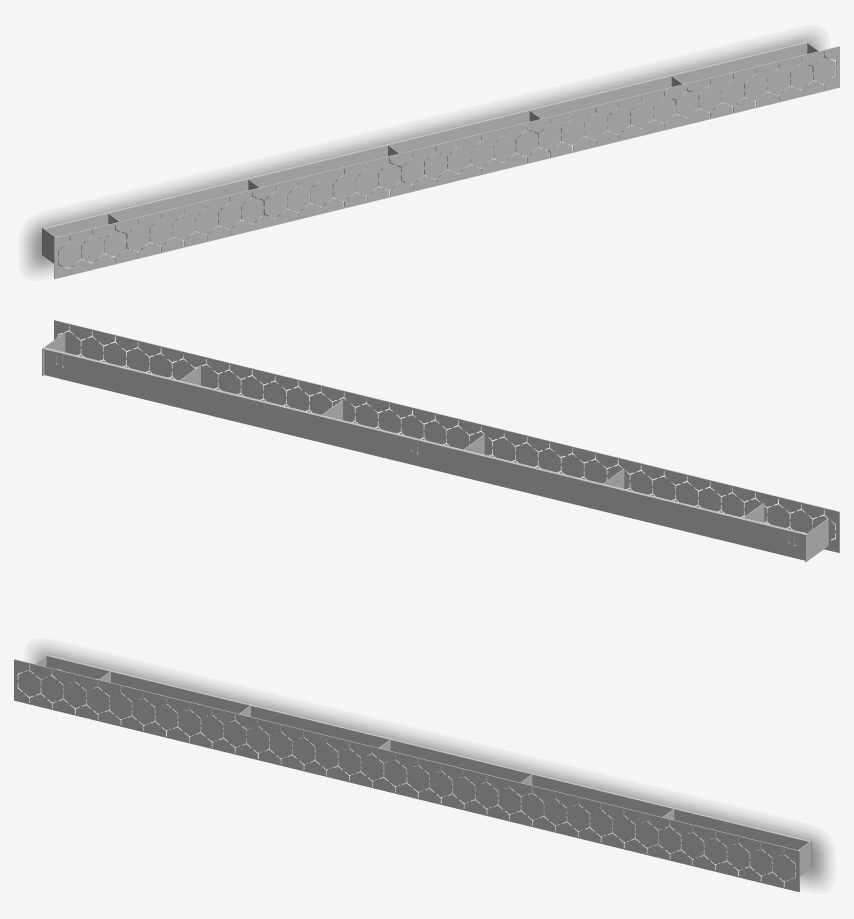
The model's file is bee-patron.221058ae13.ar.glb.
3 renders of one model, top to bottom at view 1: azimuth 30°, elevation 25°; view 2: azimuth 150°, elevation 25°; view 3: azimuth 330°, elevation 25°, orthographic.
Parts seen in each view (by area): view 1: NAUO1, object 2; view 2: NAUO1; view 3: NAUO1, object 2.
Boxes of the visible parts, x1,y1,x2,y2 form: NAUO1: [42, 41, 839, 278]; object 2: [26, 34, 821, 271]; NAUO1: [42, 320, 839, 562]; NAUO1: [14, 654, 811, 891]; object 2: [32, 647, 827, 884].
Bounding box in the file's own units: 1.88 × 0.17 × 0.092.
Materials: 2 (1 with a texture image).
